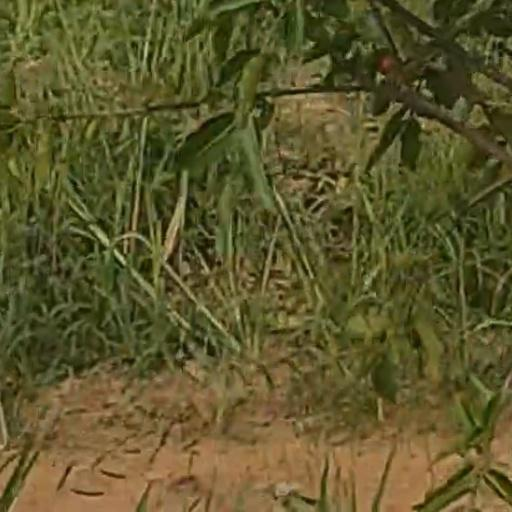acerola: (380, 55, 398, 74)
